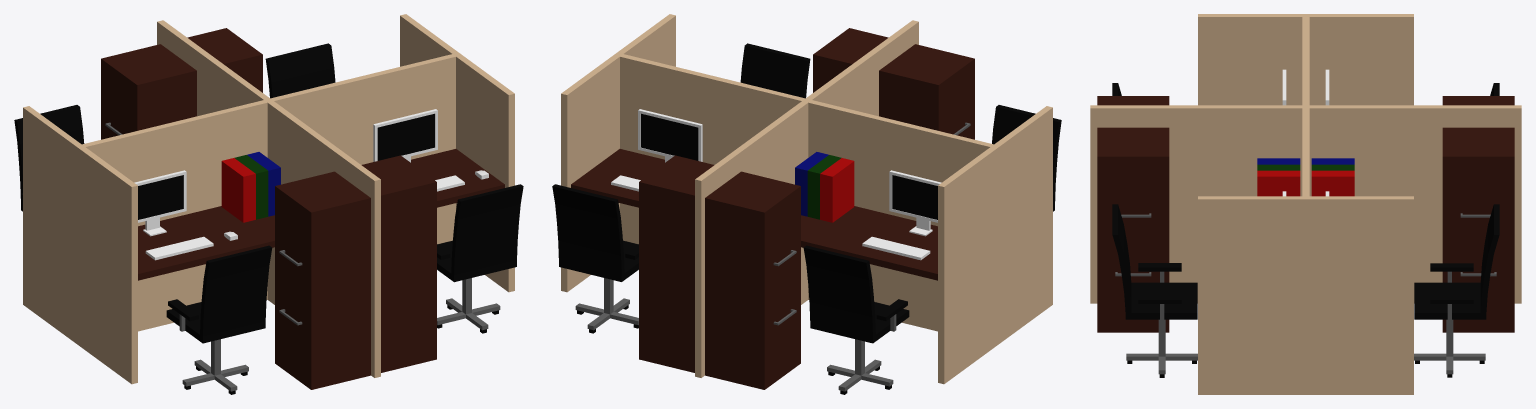
Rendered from Low_Poly_Office.FBX.
The picture shows the model from 3 angles, left to right: view 1: azimuth 30°, elevation 25°; view 2: azimuth 150°, elevation 25°; view 3: azimuth 270°, elevation 25°; orthographic projection.
Parts seen in each view (by area): view 1: Wall_001, SmallWall_001, Desk, Desk_001, Wall_002, SmallWall_002, Chair, Desk_003, Chair_001, Table, Chair_002, Screen_001 (+8 smaller); view 2: Wall_001, SmallWall_001, Desk_003, Desk_002, Wall_002, SmallWall_002, Chair_003, Desk, Chair_002, Table_003, Chair_001, Screen_002 (+8 smaller); view 3: SmallWall_002, Wall_002, SmallWall_001, Desk_002, Desk_001, Chair_001, Chair_002, Wall_001, Red_Book_001, Red_Book_002, Desk, Desk_003.
Boxes of the visible parts, x1,y1,x2,y2 form: Wall_001: [79, 53, 458, 331]; SmallWall_001: [23, 106, 137, 384]; Desk: [275, 171, 370, 389]; Desk_001: [361, 155, 436, 372]; Wall_002: [157, 20, 380, 377]; SmallWall_002: [400, 14, 514, 292]; Chair: [166, 245, 272, 394]; Desk_003: [101, 44, 196, 139]; Chair_001: [437, 184, 523, 333]; Table: [138, 206, 274, 280]; Chair_002: [265, 43, 335, 98]; Screen_001: [373, 109, 437, 162]; Wall_001: [617, 53, 996, 331]; SmallWall_001: [938, 106, 1052, 384]; Desk_003: [705, 171, 800, 389]; Desk_002: [639, 155, 714, 372]; Wall_002: [695, 20, 918, 377]; SmallWall_002: [561, 14, 675, 292]; Chair_003: [803, 245, 909, 394]; Desk: [879, 44, 974, 139]; Chair_002: [552, 184, 638, 333]; Table_003: [801, 206, 937, 280]; Chair_001: [740, 43, 810, 98]; Screen_002: [638, 109, 702, 162]; SmallWall_002: [1198, 196, 1413, 394]; Wall_002: [1090, 105, 1521, 303]; SmallWall_001: [1198, 14, 1413, 105]; Desk_002: [1442, 127, 1514, 332]; Desk_001: [1097, 127, 1169, 332]; Chair_001: [1112, 204, 1197, 377]; Chair_002: [1414, 204, 1499, 377]; Wall_001: [1302, 15, 1309, 197]; Red_Book_001: [1257, 170, 1300, 196]; Red_Book_002: [1311, 170, 1354, 196]; Desk: [1097, 96, 1169, 105]; Desk_003: [1442, 96, 1514, 105].
Size of the model in its own units: 305 by 150 by 300.
